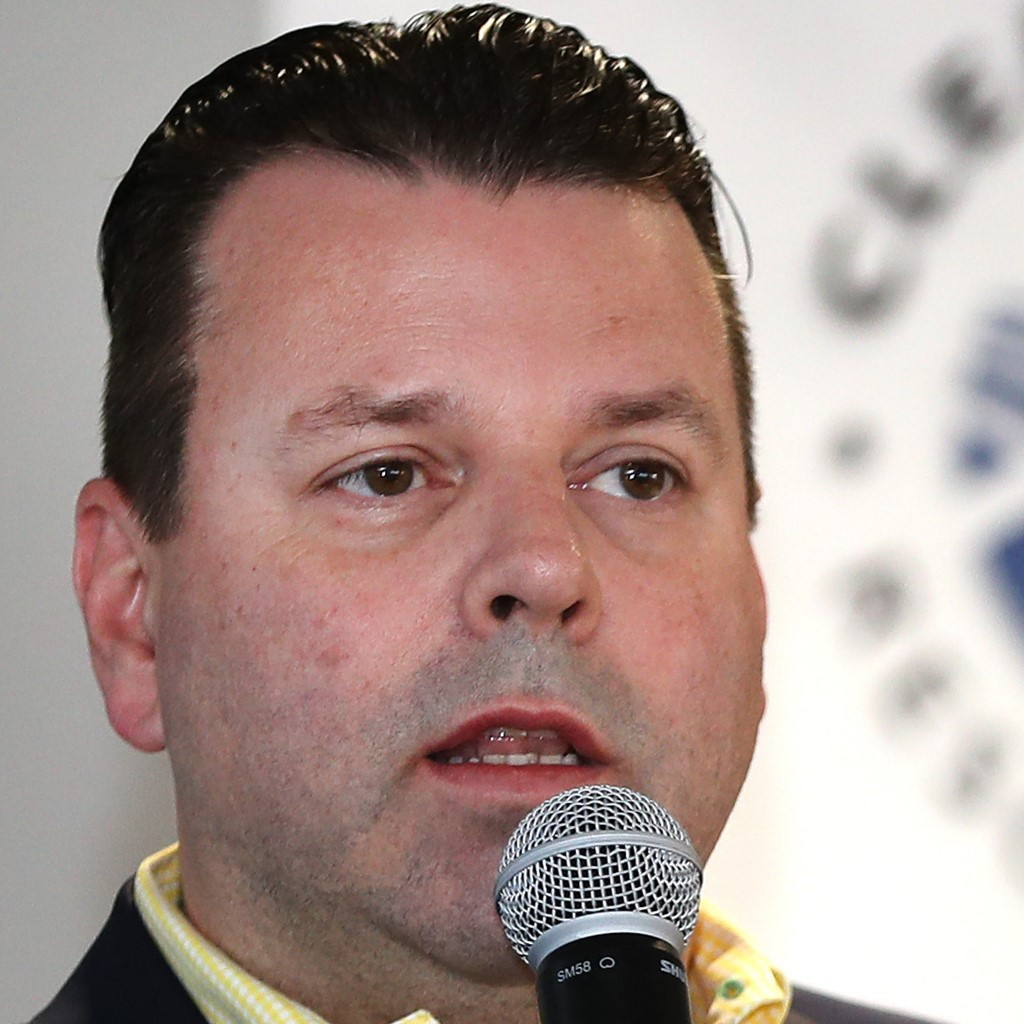sin_mascara: (162, 126, 765, 979)
